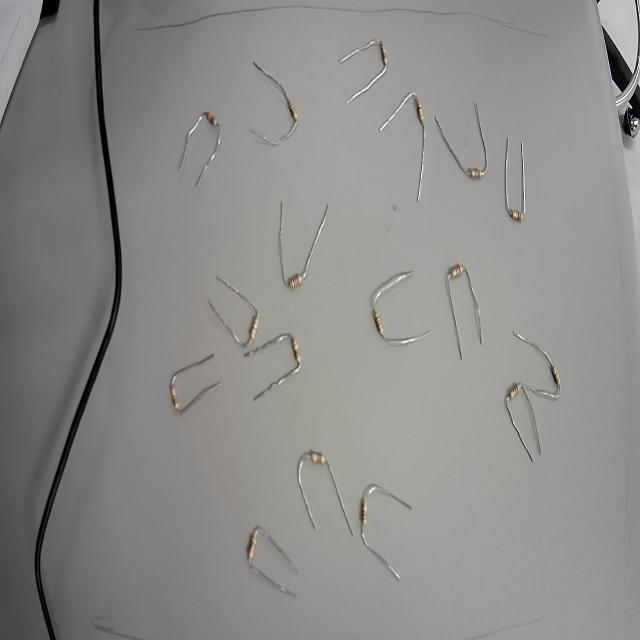resistor: (237, 492, 268, 590), (153, 352, 190, 434), (359, 282, 394, 363), (277, 321, 318, 390), (185, 89, 226, 157), (233, 286, 265, 372), (541, 326, 572, 409), (434, 255, 482, 304), (355, 472, 381, 560), (274, 83, 310, 143), (280, 253, 322, 304), (299, 436, 343, 484), (408, 79, 436, 145), (498, 361, 528, 418), (499, 189, 530, 241), (369, 26, 396, 81), (457, 156, 491, 196)
